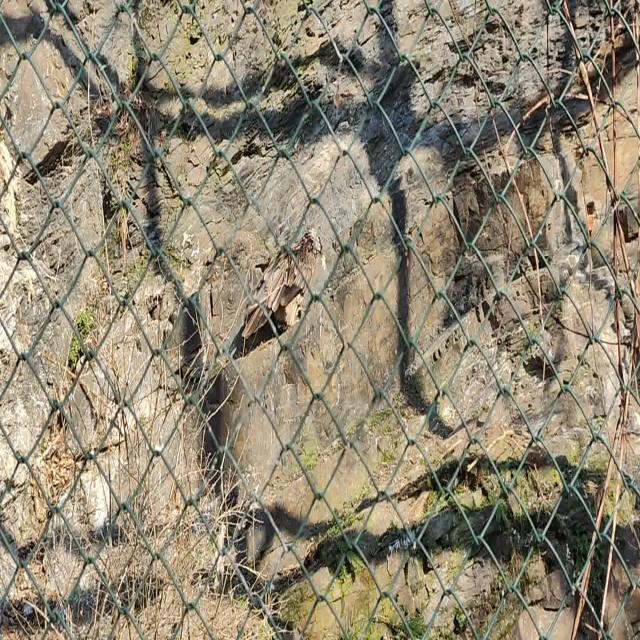bird: (242, 229, 324, 339)
